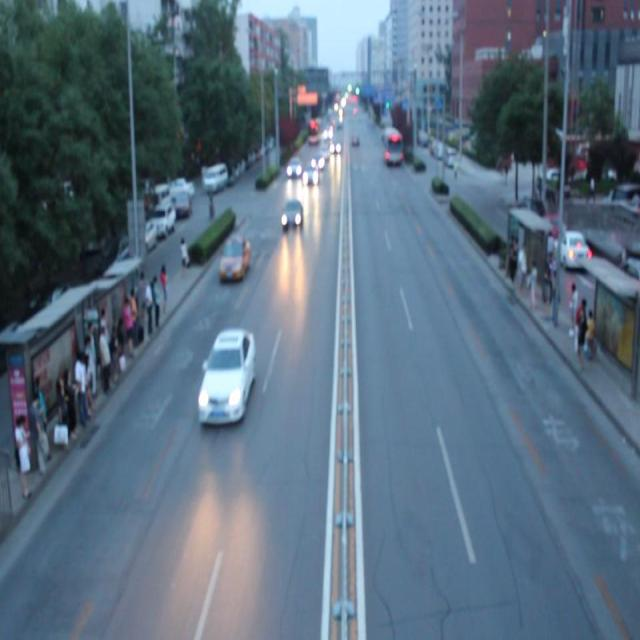car: (198, 327, 254, 426), (219, 231, 249, 281), (280, 196, 302, 229), (286, 154, 302, 177), (302, 164, 319, 183), (310, 151, 324, 169)
van: (379, 127, 404, 165)
